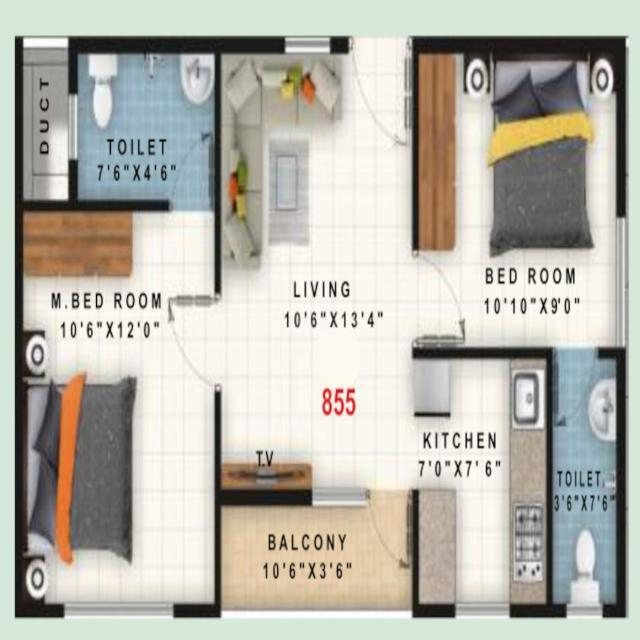Balcony-Sitout: (217, 494, 420, 623)
Bedroom: (413, 36, 631, 357)
Bedroom with Toilet: (15, 36, 216, 623)
Kitchen: (416, 346, 556, 614)
Living: (216, 36, 419, 492)
Toilet: (69, 46, 217, 208), (545, 347, 627, 614)
